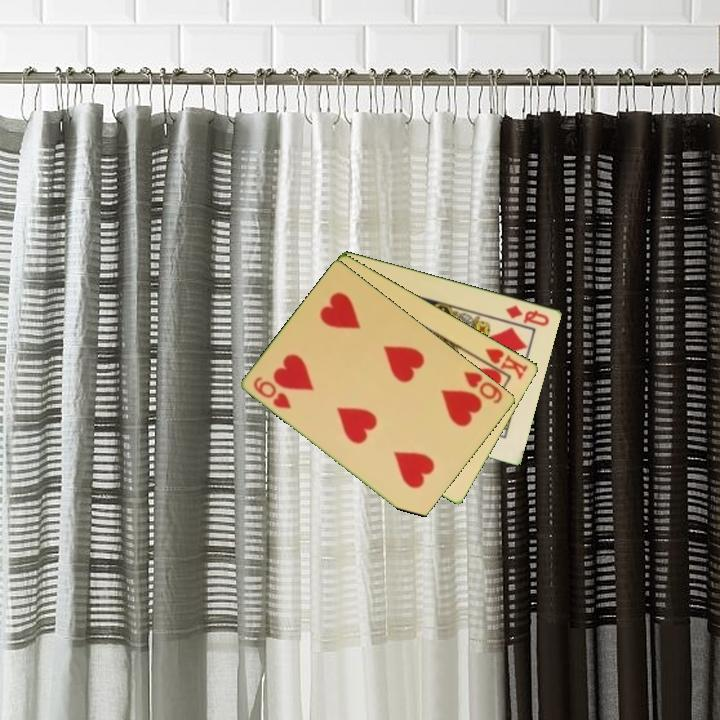6h: (460, 367, 506, 407), (250, 373, 295, 412)
Kh: (474, 344, 531, 382)
Qd: (502, 301, 553, 329)
